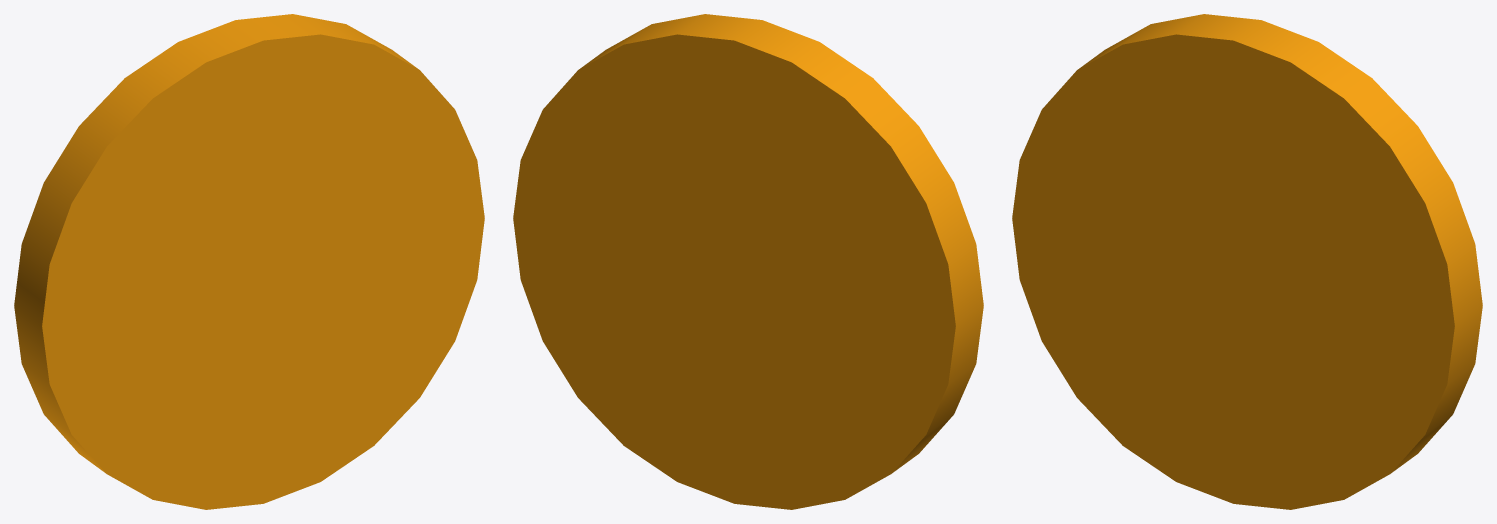
Rendered from badge.glb.
3 renders of one model, left to right at view 1: azimuth 30°, elevation 25°; view 2: azimuth 150°, elevation 25°; view 3: azimuth 330°, elevation 25°, orthographic.
Bounding box in the file's own units: 3.2 × 3.2 × 0.35.
